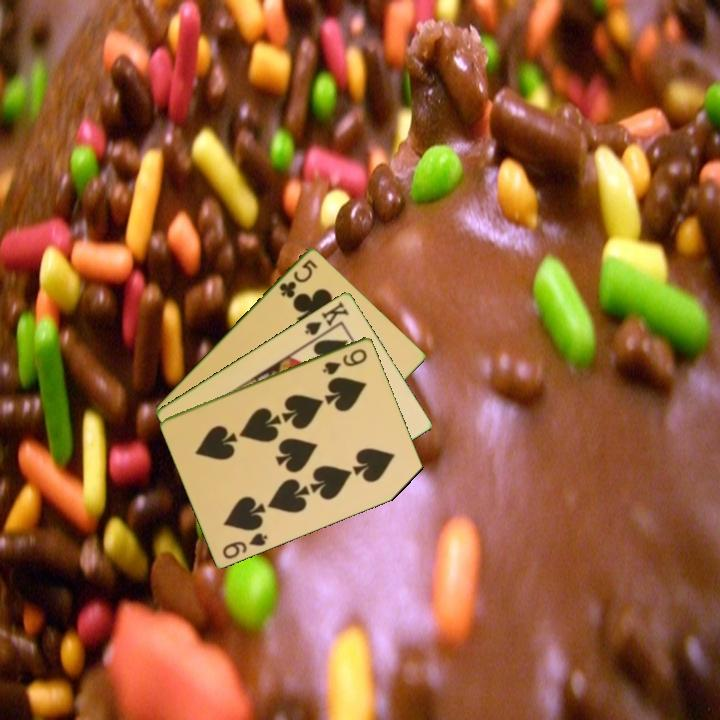5c: (276, 255, 320, 301)
9s: (219, 529, 271, 562), (319, 345, 370, 378)
Ks: (301, 297, 352, 344)
